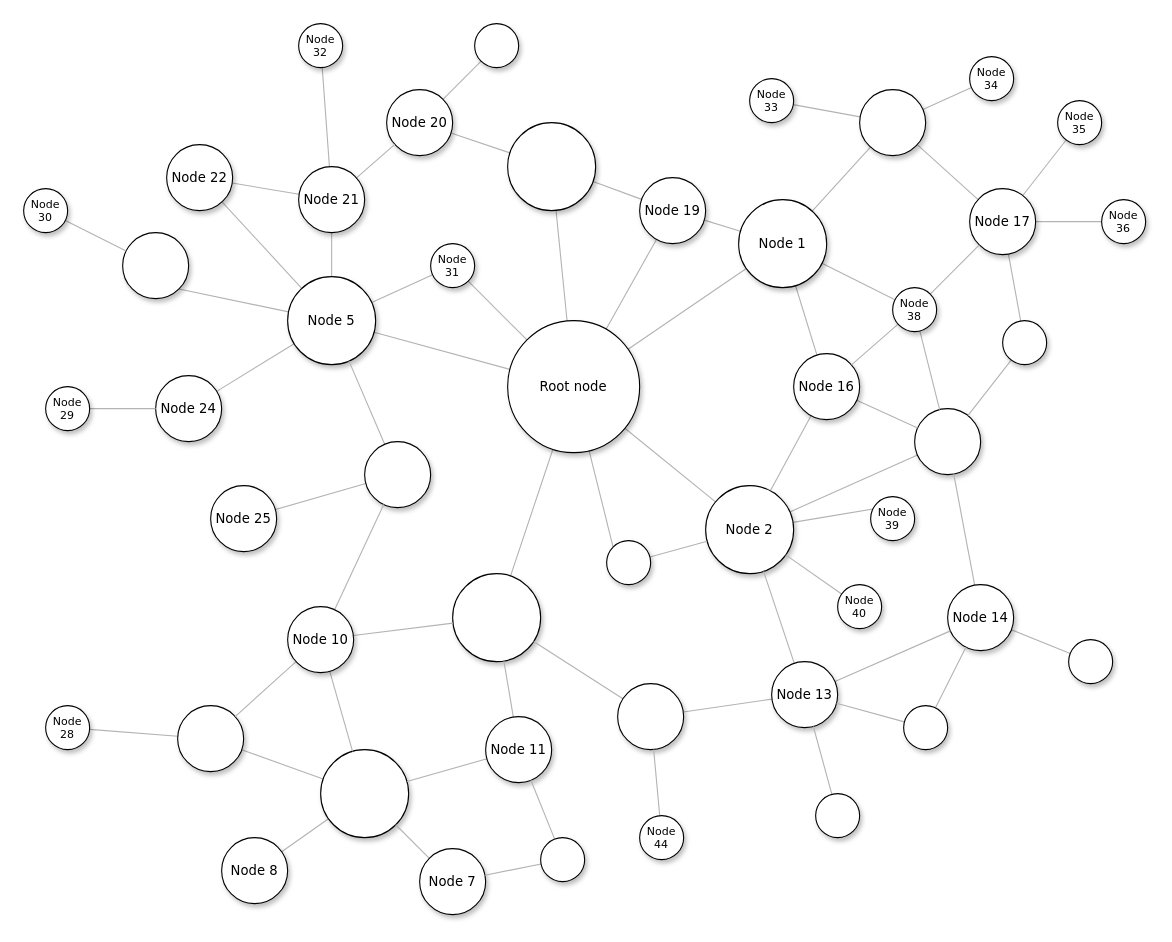
The diagram is 1172 pixels wide and 942 high, and some of its shapes have lost their labels. The centre of each missing label's shape, as x and y in pixels:
"Node 12" belongs at (651,717).
"Node 15" belongs at (948,442).
"Node 18" belongs at (893,123).
"Node 23" belongs at (156,266).
"Node 26" belongs at (398,475).
"Node 27" belongs at (563,860).
"Node 3" belongs at (497,618).
"Node 37" belongs at (1025,343).
"Node 4" belongs at (552,167).
"Node 41" belongs at (1091,662).
"Node 42" belongs at (926,728).
"Node 43" belongs at (838,816).
"Node 45" belongs at (629,563).
"Node 46" belongs at (497,46).
"Node 6" belongs at (365,794).
"Node 9" belongs at (211,739).
